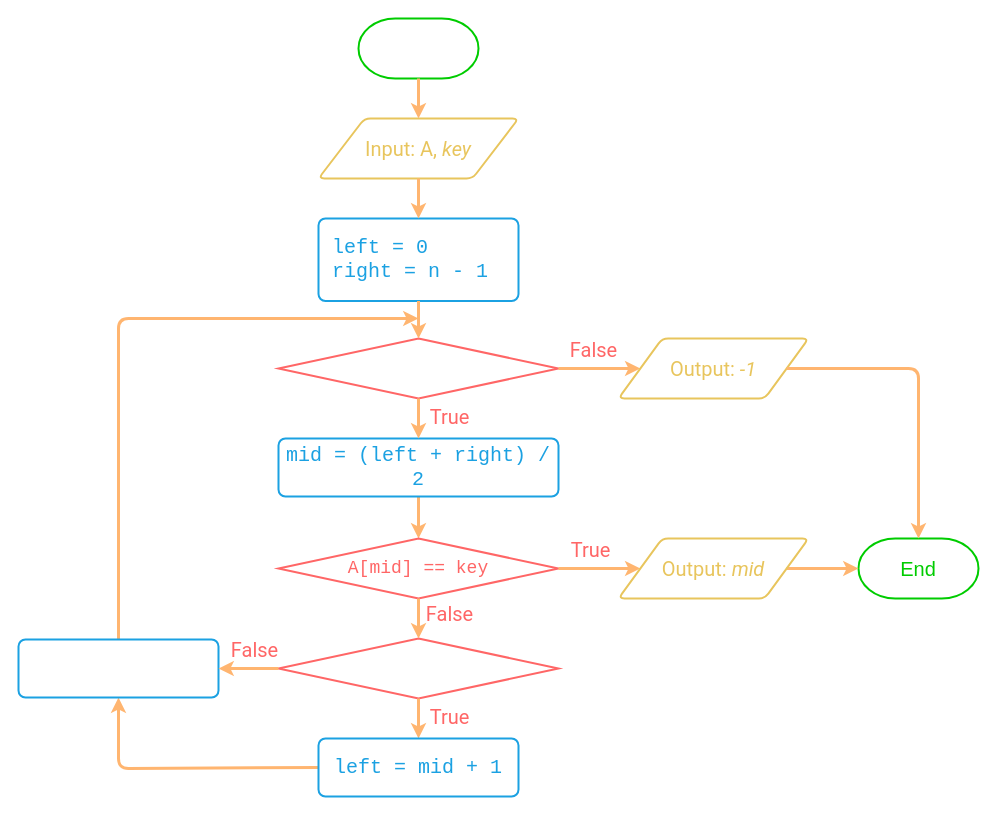
The diagram is 996 pixels wide and 814 high, and some of its shapes have lost their labels. The shapes that lost their labels are listed below. From the top down, each one's box as (x1, y1, x2, y2) in pixels, then its label:
(357, 17, 479, 79): Begin
(277, 337, 559, 399): left <= right
(17, 638, 219, 698): right = mid - 1
(277, 637, 559, 699): A[mid] < key
